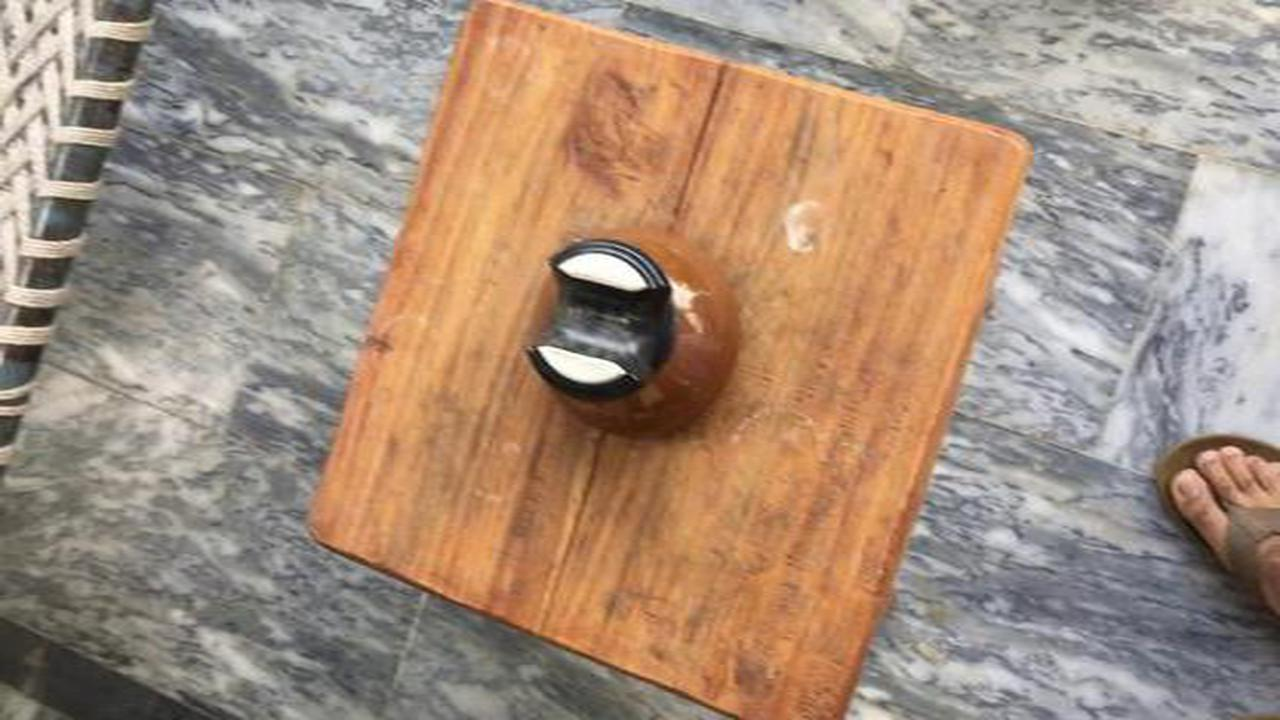insulator_pin: (511, 229, 761, 440)
